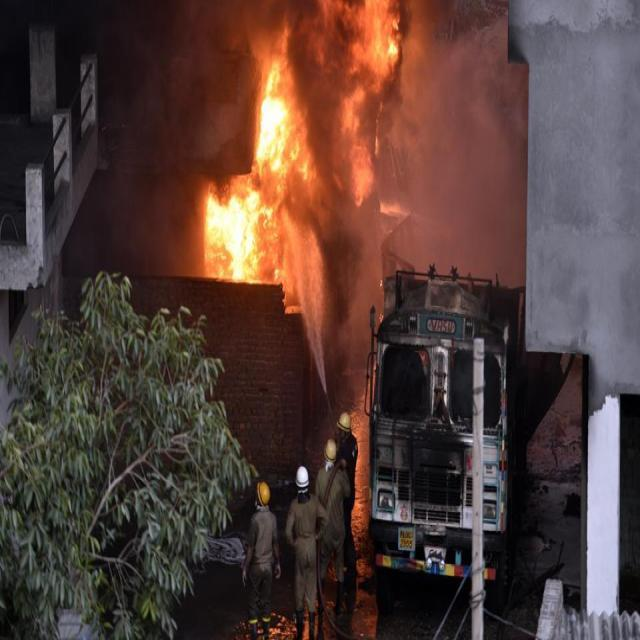Fire: (320, 3, 407, 198), (190, 162, 288, 302), (243, 57, 309, 192)
